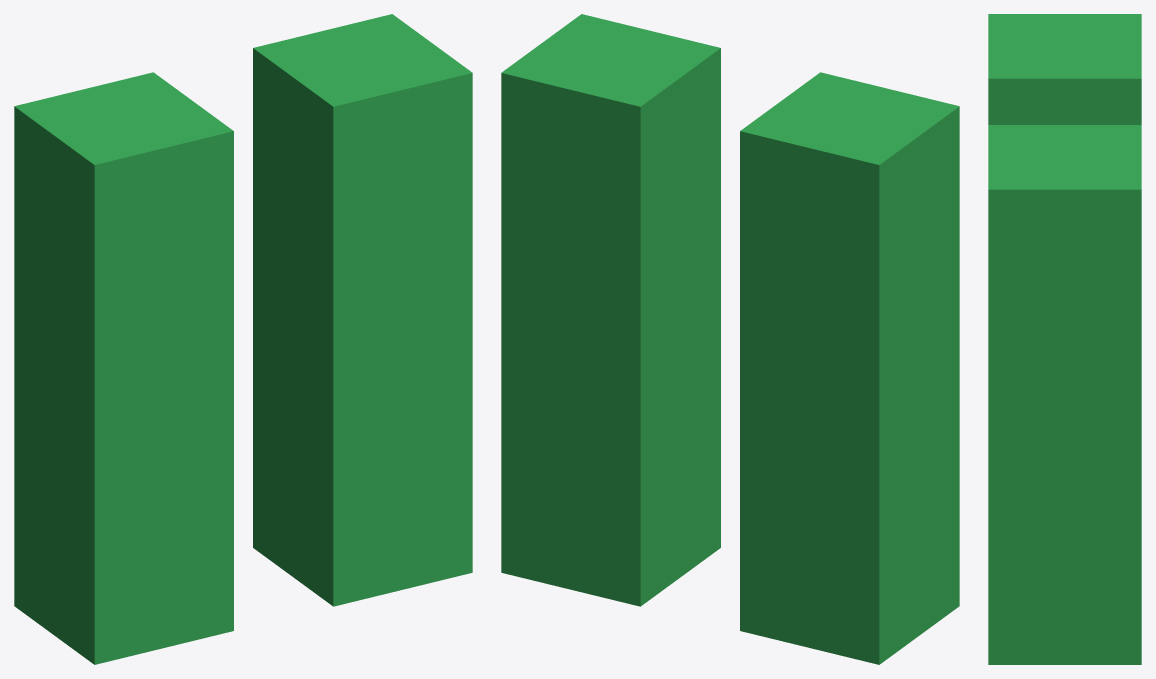
File: skomma__male_green_leg_01.glb
3 views of the same model, side by side, from view 1: azimuth 30°, elevation 25°; view 2: azimuth 150°, elevation 25°; view 3: azimuth 270°, elevation 25° (orthographic). The views are drawn at different scales.
Parts seen in each view (by area): view 1: Left_Leg, Right_Leg; view 2: Left_Leg, Right_Leg; view 3: Right_Leg, Left_Leg.
Boxes of the visible parts, x1=… form: Left_Leg: x1=14, y1=72, x2=233, y2=664; Right_Leg: x1=253, y1=14, x2=472, y2=606; Left_Leg: x1=740, y1=72, x2=959, y2=664; Right_Leg: x1=501, y1=14, x2=720, y2=606; Right_Leg: x1=988, y1=125, x2=1141, y2=664; Left_Leg: x1=988, y1=14, x2=1141, y2=124.
Size of the model in its own units: 0.95 by 1.2 by 0.35.
